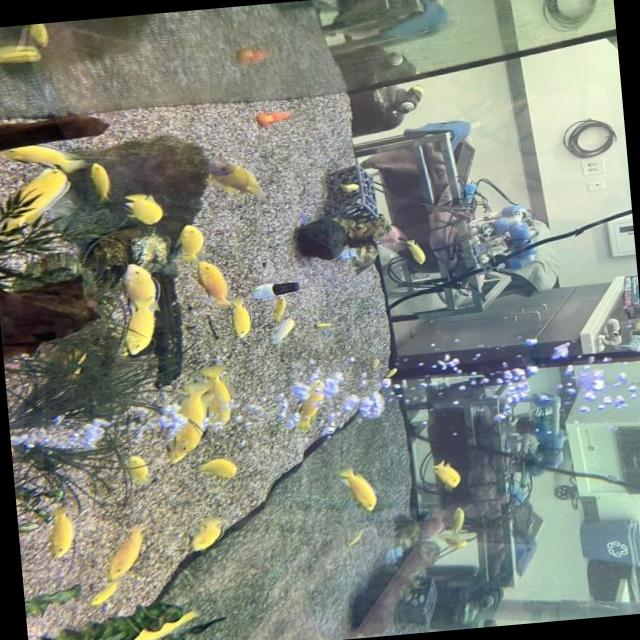YellowCichlid: (0, 167, 78, 239), (206, 145, 268, 203), (31, 510, 82, 570), (100, 520, 152, 577), (166, 397, 209, 458), (200, 362, 234, 430), (287, 376, 332, 427), (337, 463, 381, 515), (118, 182, 164, 230), (12, 138, 84, 168), (184, 516, 232, 558), (126, 613, 199, 640), (196, 261, 234, 309), (116, 312, 157, 356), (119, 258, 155, 306), (85, 156, 115, 212), (398, 234, 429, 278), (173, 222, 210, 255), (196, 455, 245, 478), (431, 458, 466, 490), (122, 452, 152, 487), (224, 300, 252, 336), (224, 310, 257, 338), (434, 536, 470, 554), (90, 584, 122, 604), (338, 175, 362, 201), (376, 363, 403, 384), (269, 297, 296, 317), (450, 508, 474, 526), (344, 526, 364, 546), (366, 355, 379, 369)
